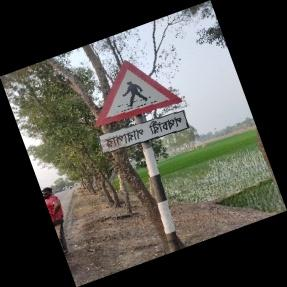Pedestrian-crossing: (94, 60, 189, 155)
